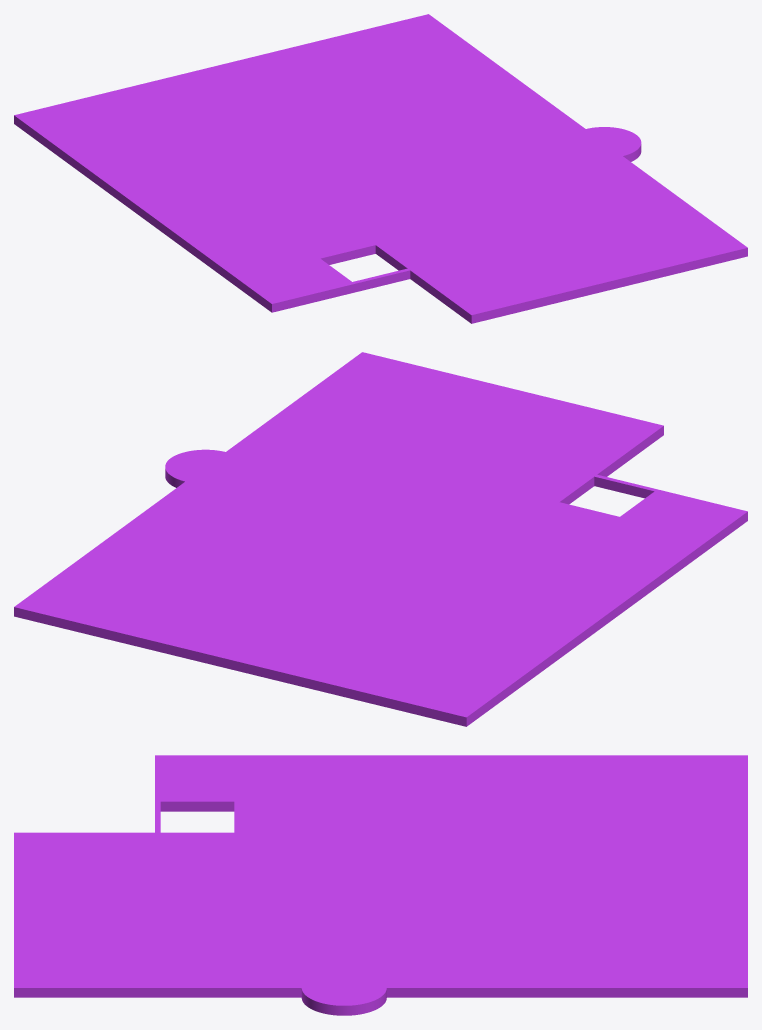
Rendered from suelo-01.gltf.
3 renders of one model, top to bottom at view 1: azimuth 30°, elevation 25°; view 2: azimuth 150°, elevation 25°; view 3: azimuth 270°, elevation 25°, orthographic. The views are drawn at different scales.
Parts seen in each view (by area): view 1: Object_10; view 2: Object_10; view 3: Object_10.
Boxes of the visible parts, x1,y1,x2,y2 form: Object_10: (14, 14, 747, 323); Object_10: (14, 352, 747, 726); Object_10: (14, 755, 747, 1015).
Size of the model in its own units: 16.16 by 0.3 by 20.
